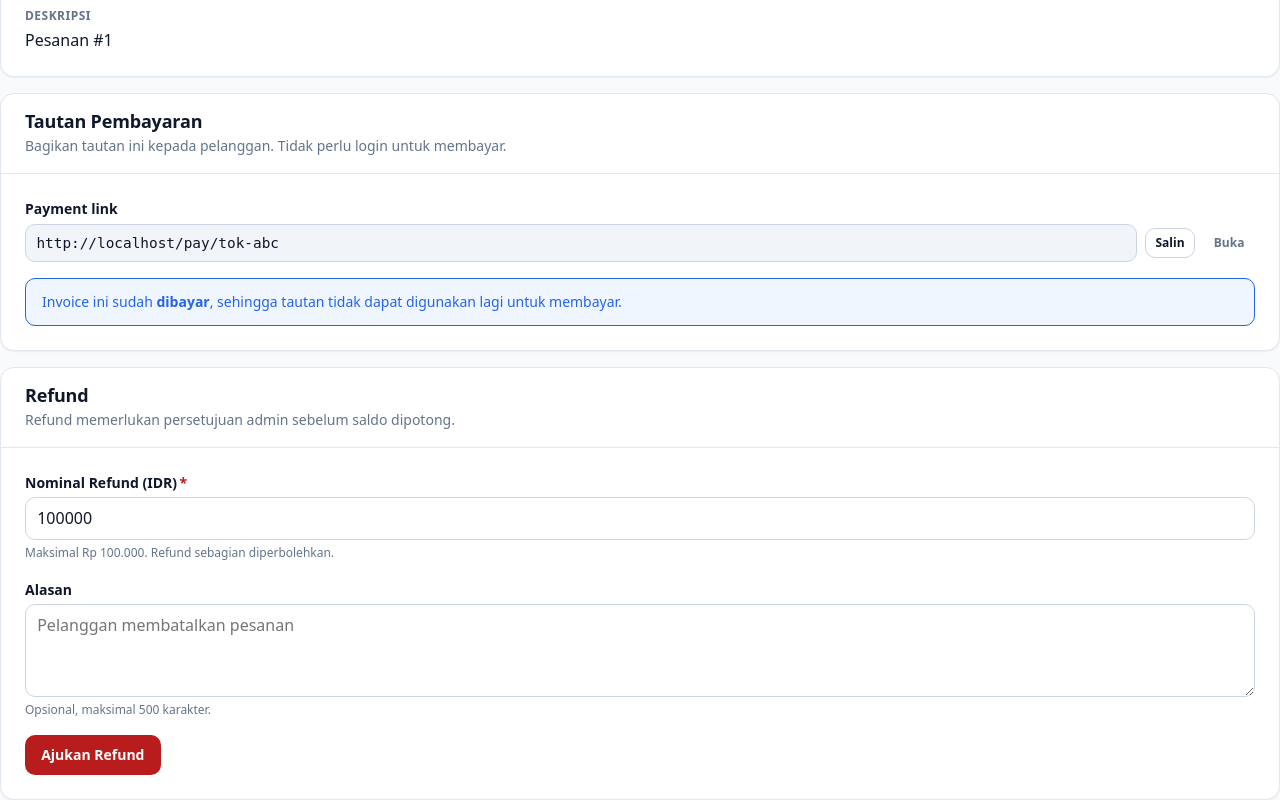
Test case: submitting a refund › hides the form immediately after a successful submission, without a page reload
(page scrolled)
Step 1. Click the button "Ajukan Refund" → coordinates (93, 755), box [25,735,161,775]
(page scrolled)
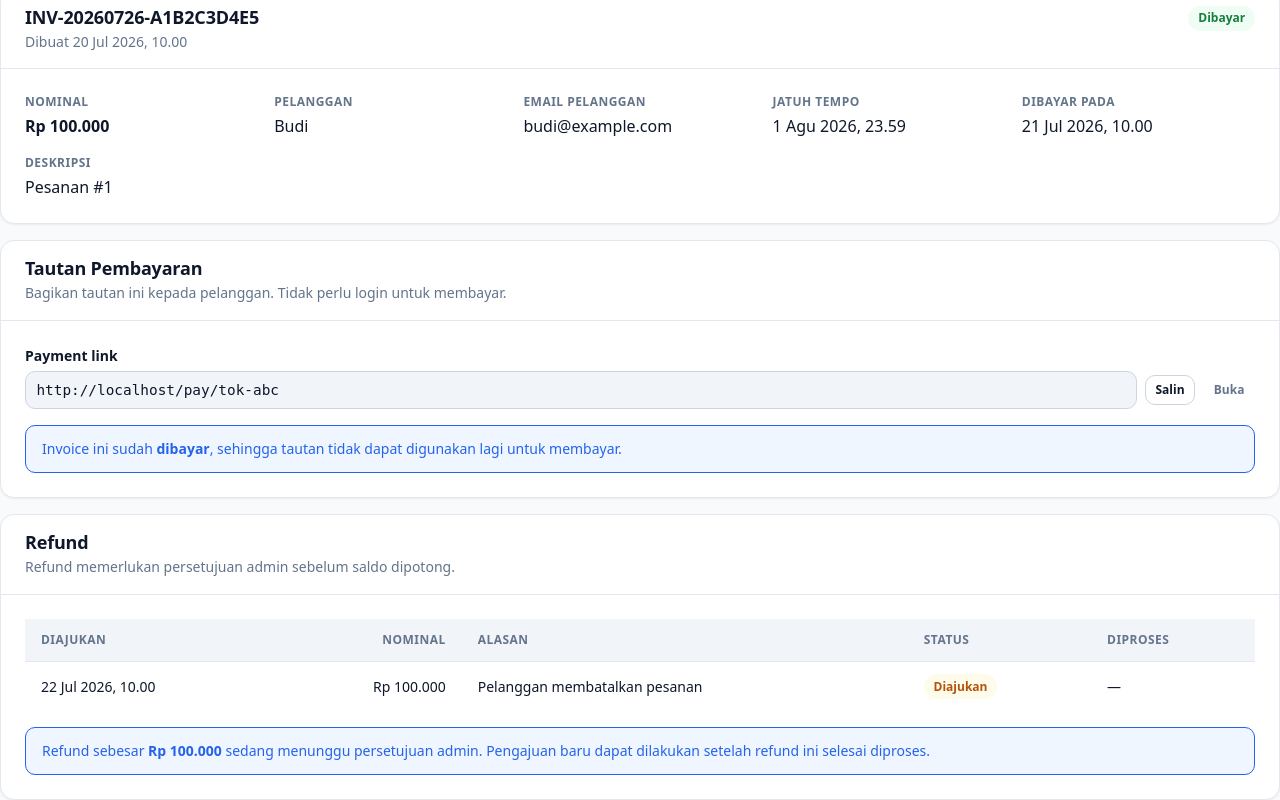
Check: the text "menunggu persetujuan admin" is shown, box [226,741,482,760]
Check: the button "Ajukan Refund" is gone
